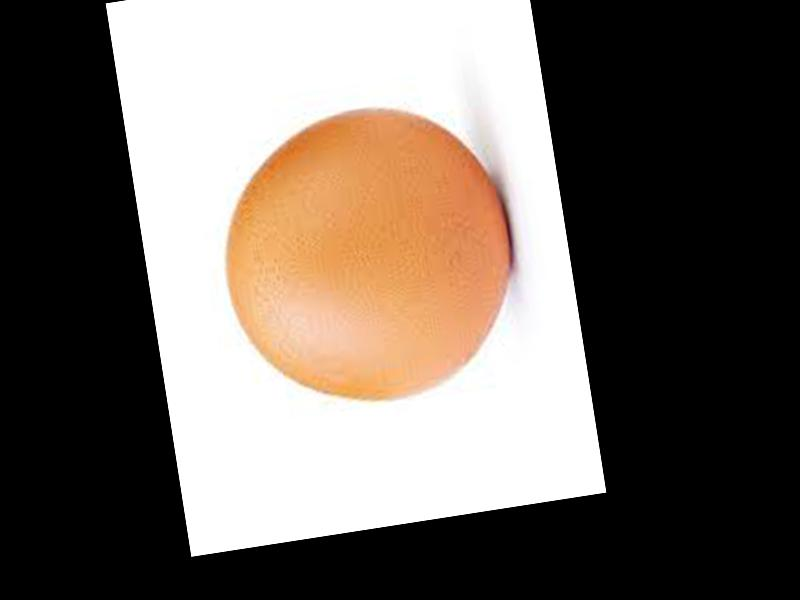Eggs: (209, 91, 528, 419)
